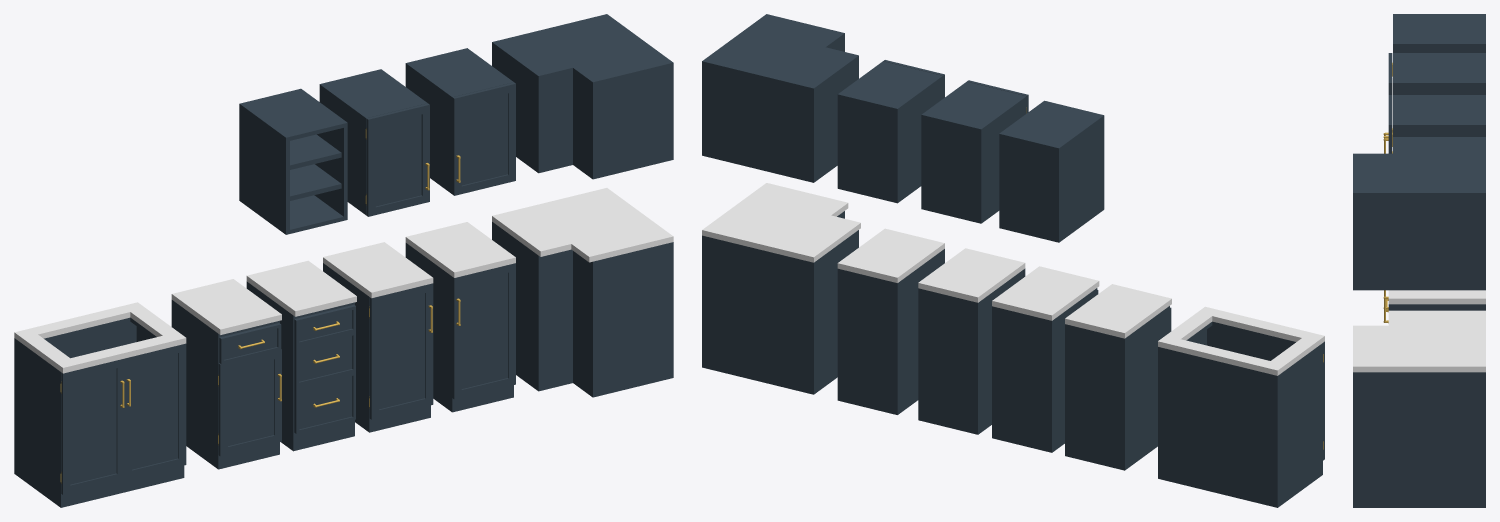
Rendered from CabinetAset.fbx.
3 views of the same model, side by side, from view 1: azimuth 30°, elevation 25°; view 2: azimuth 150°, elevation 25°; view 3: azimuth 270°, elevation 25° (orthographic). The views are drawn at different scales.
Parts seen in each view (by area): view 1: CabinetACorner01, CabinetACorner02, CabinetA_Sink, CabinetA07, CabinetA04, CabinetA02Door, CabinetA_SinkDoor02, CabinetA01Door, CabinetA_SinkDoor01, CabinetA01, CabinetA03, CabinetA02 (+9 smaller); view 2: CabinetA_Sink, CabinetACorner01, CabinetACorner02, CabinetA04, CabinetA01, CabinetA02, CabinetA03, CabinetA07, CabinetA05, CabinetA06, CabinetA_SinkDoor01; view 3: CabinetACorner01, CabinetACorner02, CabinetA06, CabinetA05, CabinetA07, CabinetA01, CabinetA05Door, CabinetA06Door.
Part boxes in pixels (bbox=[...]): CabinetACorner01: bbox=[492, 188, 673, 397]; CabinetACorner02: bbox=[492, 14, 673, 179]; CabinetA_Sink: bbox=[14, 302, 186, 507]; CabinetA07: bbox=[239, 88, 347, 234]; CabinetA04: bbox=[171, 279, 281, 469]; CabinetA02Door: bbox=[369, 283, 433, 419]; CabinetA_SinkDoor02: bbox=[60, 358, 124, 494]; CabinetA01Door: bbox=[452, 263, 515, 399]; CabinetA_SinkDoor01: bbox=[124, 343, 186, 479]; CabinetA01: bbox=[405, 222, 515, 412]; CabinetA03: bbox=[246, 260, 356, 451]; CabinetA02: bbox=[323, 242, 433, 432]; CabinetA_Sink: bbox=[1158, 306, 1324, 507]; CabinetACorner01: bbox=[702, 183, 860, 394]; CabinetACorner02: bbox=[702, 14, 858, 182]; CabinetA04: bbox=[1065, 284, 1171, 470]; CabinetA01: bbox=[837, 228, 944, 414]; CabinetA02: bbox=[918, 248, 1025, 434]; CabinetA03: bbox=[992, 266, 1099, 452]; CabinetA07: bbox=[999, 100, 1104, 242]; CabinetA05: bbox=[837, 61, 942, 203]; CabinetA06: bbox=[921, 81, 1026, 223]; CabinetA_SinkDoor01: bbox=[1207, 325, 1263, 358]; CabinetACorner01: bbox=[1353, 310, 1485, 507]; CabinetACorner02: bbox=[1353, 137, 1485, 290]; CabinetA06: bbox=[1392, 53, 1485, 132]; CabinetA05: bbox=[1392, 95, 1485, 146]; CabinetA07: bbox=[1393, 14, 1485, 52]; CabinetA01: bbox=[1388, 290, 1485, 310]; CabinetA05Door: bbox=[1388, 95, 1392, 153]; CabinetA06Door: bbox=[1383, 53, 1392, 153].
Size of the model in its own units: 402 by 204 by 78.05.
